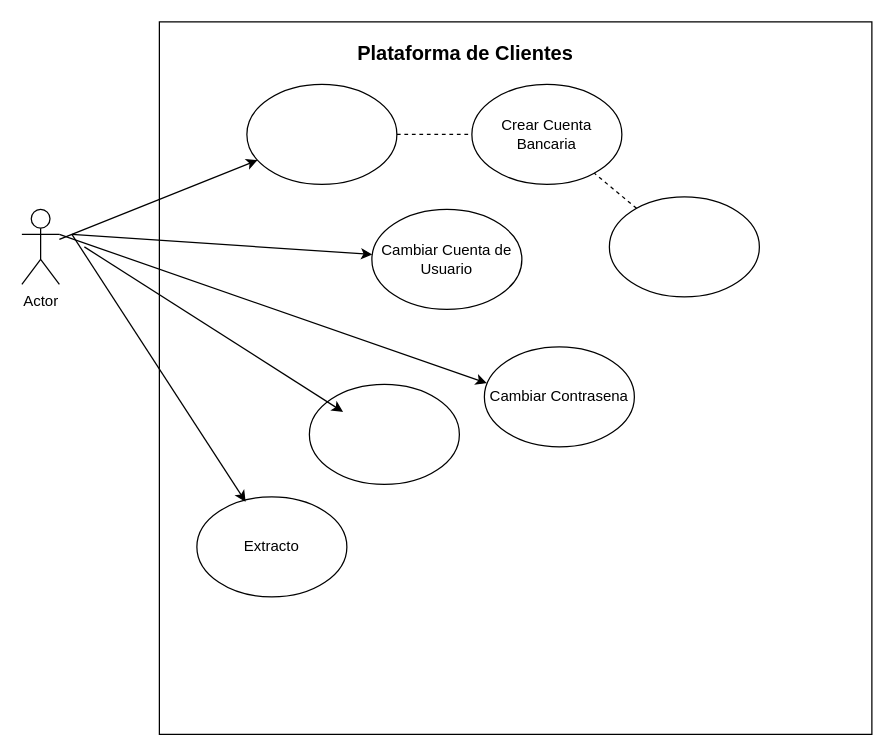
This 894x756 diagram has some shape labels left out. The shapes that lost their labels are listed below. From the top down, each one's box as (x1, y1, x2, y2) in pixels, then its label:
(246, 83, 397, 184): Registrar Usuario
(608, 196, 759, 297): Generar Tarjeta
(308, 383, 459, 484): Cambiar PIN
